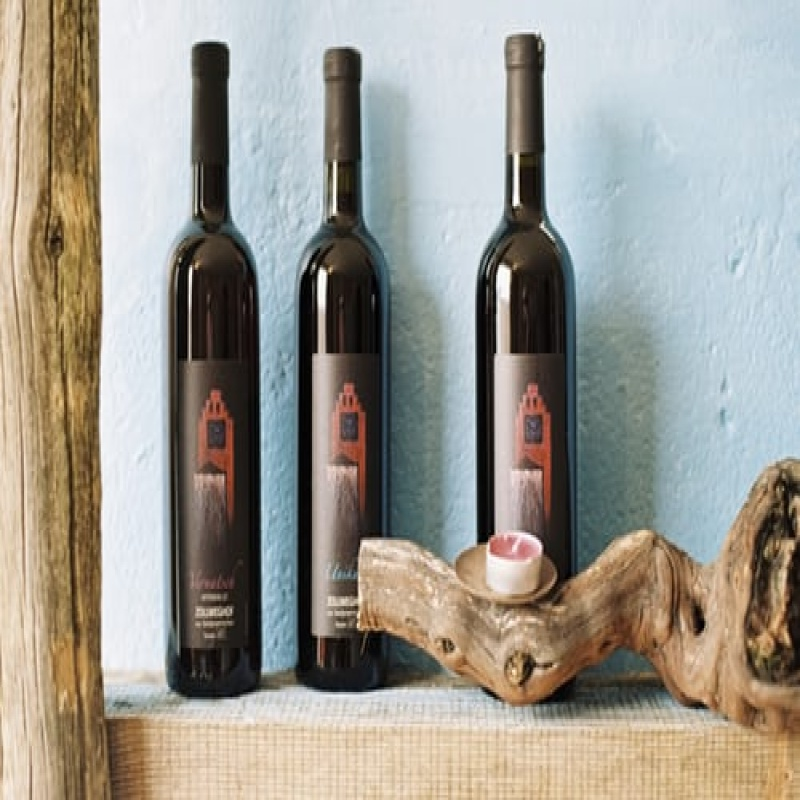wine: (305, 49, 405, 683), (167, 41, 264, 682), (481, 28, 577, 574)
